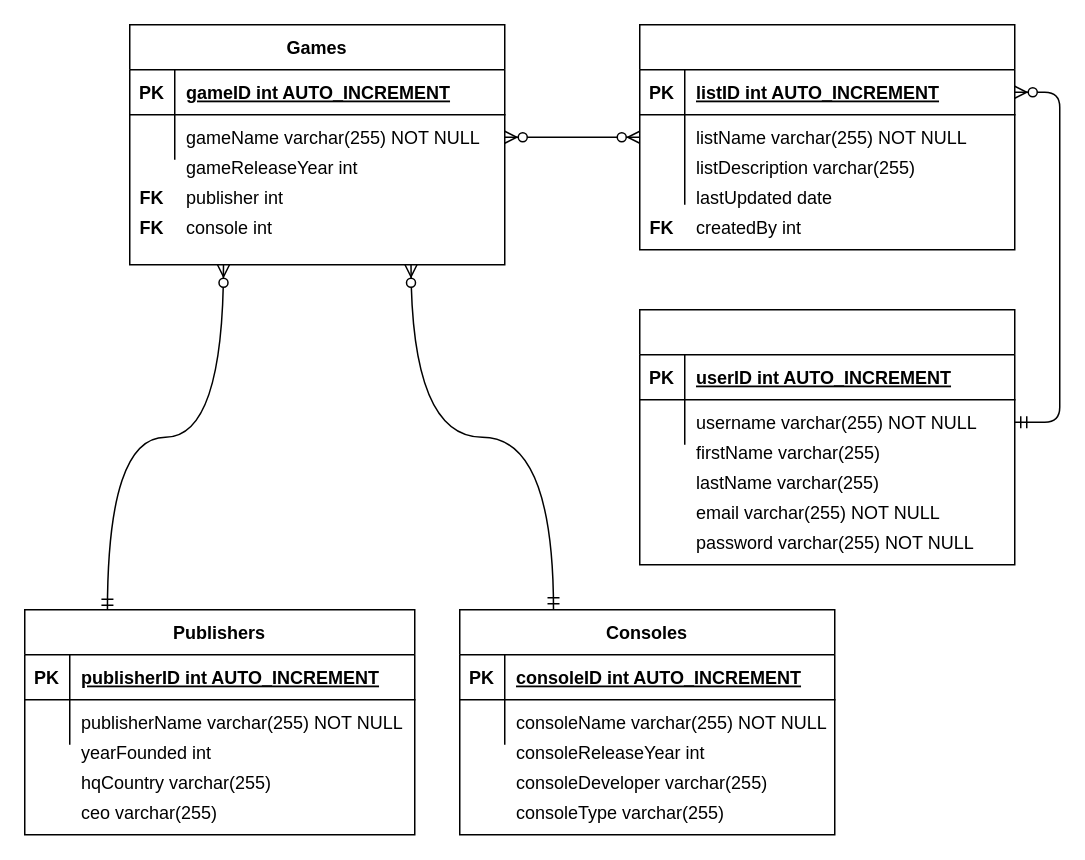
Some shapes in this 1085 by 860 pixel diagram are drawn without their labels. The box of each missing label's shape, as (x1, y1, x2, y2) in pixels:
Lists: (638, 23, 1015, 250)
Users: (638, 308, 1015, 565)
